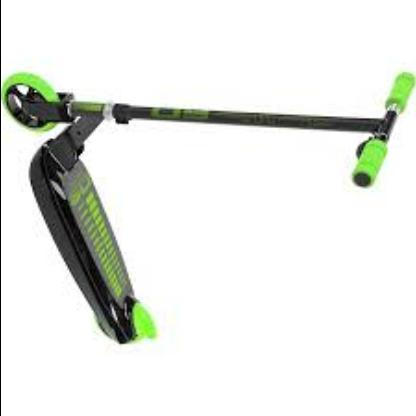bike: (2, 69, 411, 346)
